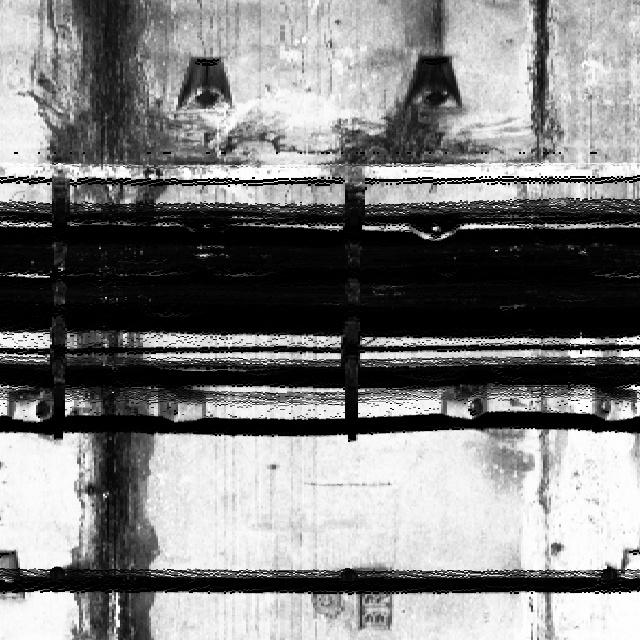leakage: (50, 312, 176, 639), (23, 1, 207, 158), (516, 0, 578, 164)
